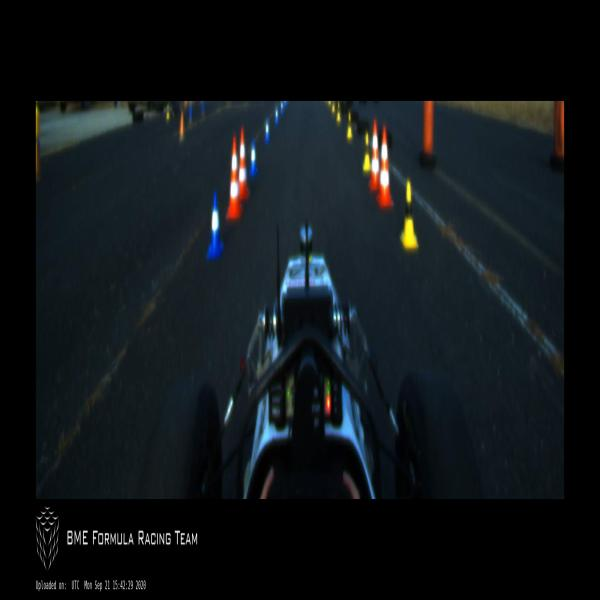blue_cone: (207, 190, 224, 261), (249, 141, 258, 179), (264, 118, 270, 144), (274, 106, 278, 126), (280, 101, 284, 115)
large_orange_cone: (378, 127, 395, 208), (226, 139, 242, 222), (367, 118, 379, 194), (238, 128, 250, 200)
yellow_cone: (400, 179, 419, 251), (362, 133, 371, 173), (346, 112, 352, 139), (336, 101, 341, 123), (332, 101, 335, 112)
